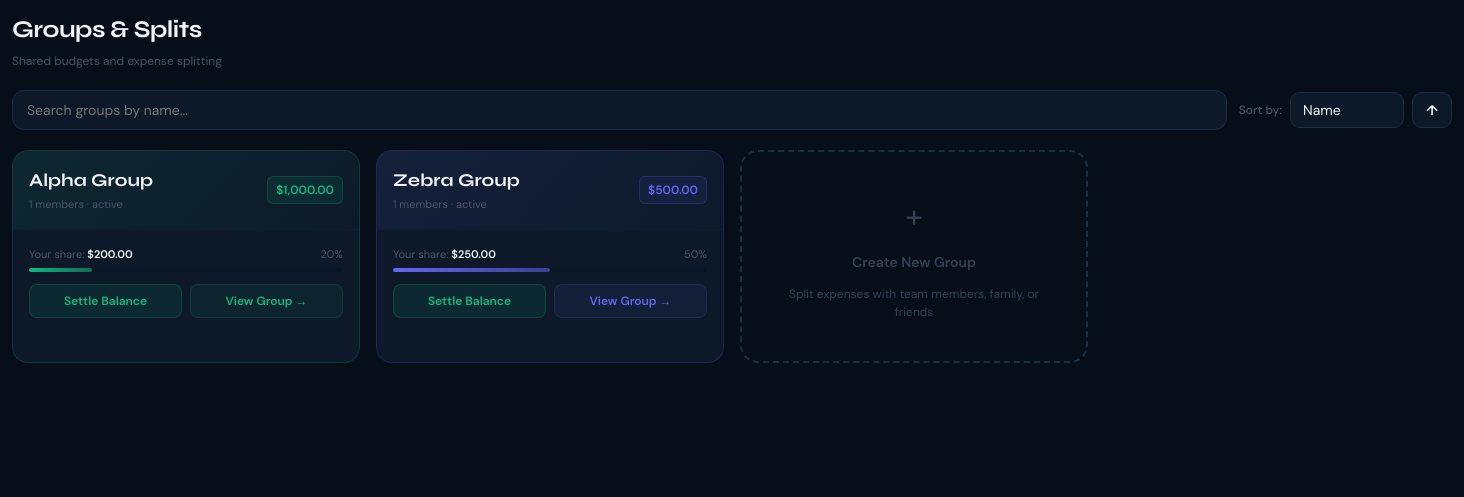
it: GroupsPage - Filtering & Sorting › shows empty state when no groups match search
In the field with placeholder "Search groups by name...": coordinates (619, 110) left=12, top=90, right=1227, bottom=130, type "NonExistent"
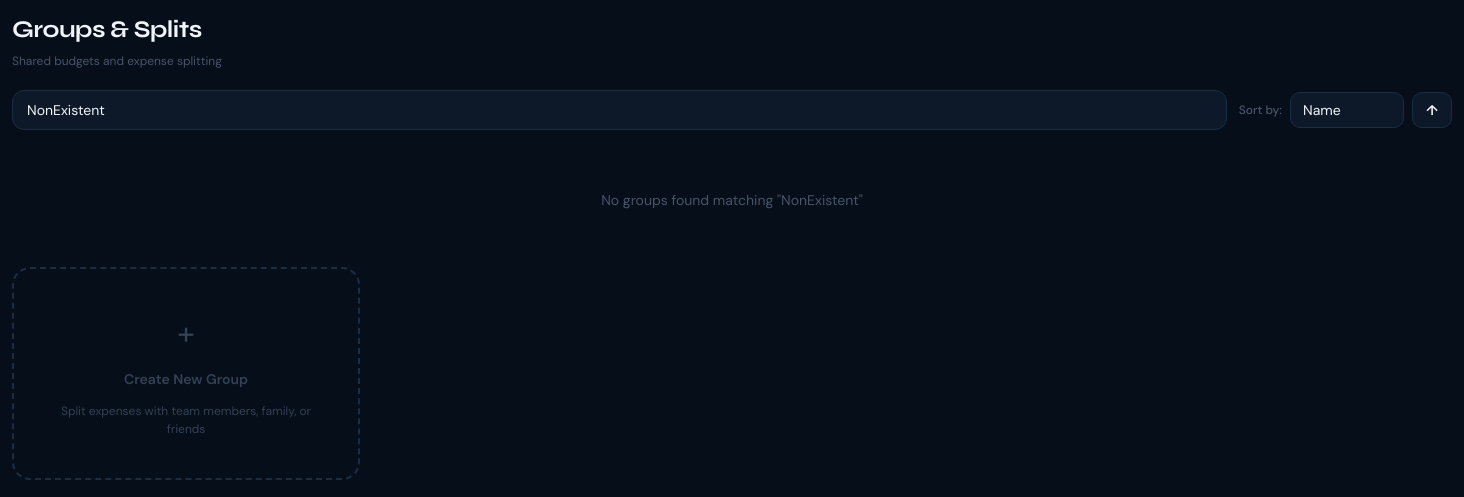
expect the text "No groups found matching \"NonExistent\"" is shown: met, box left=601, top=191, right=863, bottom=209
